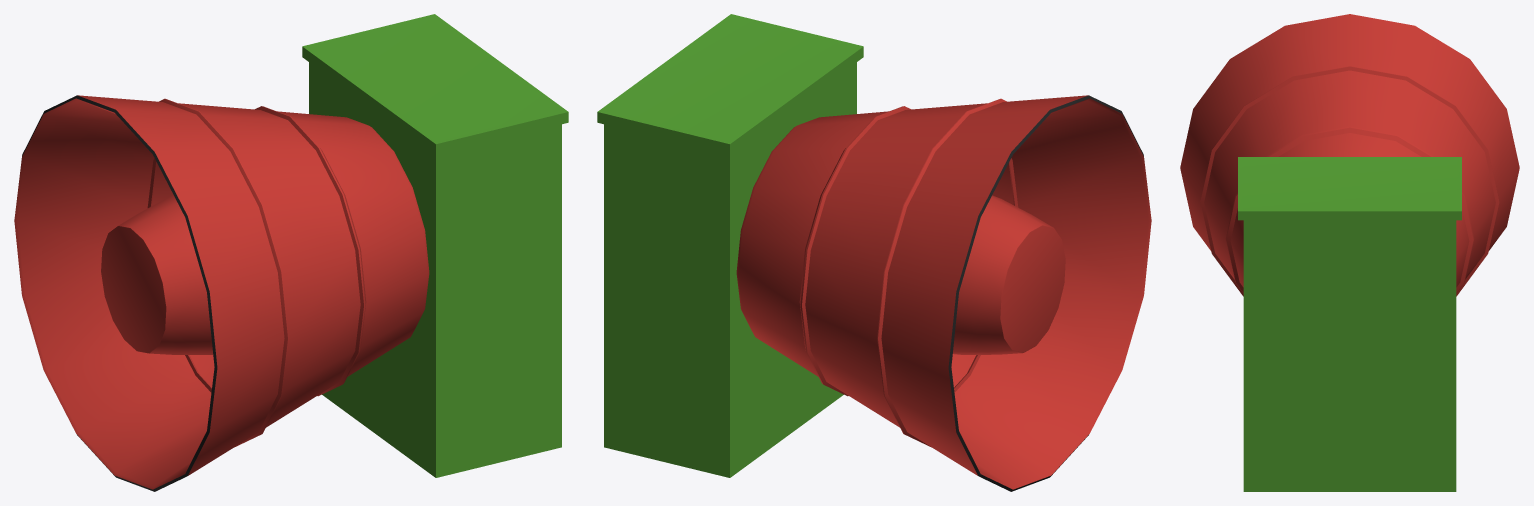
Rendered from Siren Without Stand.fbx.
3 views of the same model, side by side, from view 1: azimuth 30°, elevation 25°; view 2: azimuth 150°, elevation 25°; view 3: azimuth 270°, elevation 25° (orthographic). The views are drawn at different scales.
Visible parts, largest first — view 1: Siren; view 2: Siren; view 3: Siren.
Boxes of the visible parts, bbox=[...] form: Siren: bbox=[14, 14, 568, 491]; Siren: bbox=[597, 14, 1151, 491]; Siren: bbox=[1180, 14, 1519, 491].
Size of the model in its own units: 0.0101 by 0.00962 by 0.00921.
